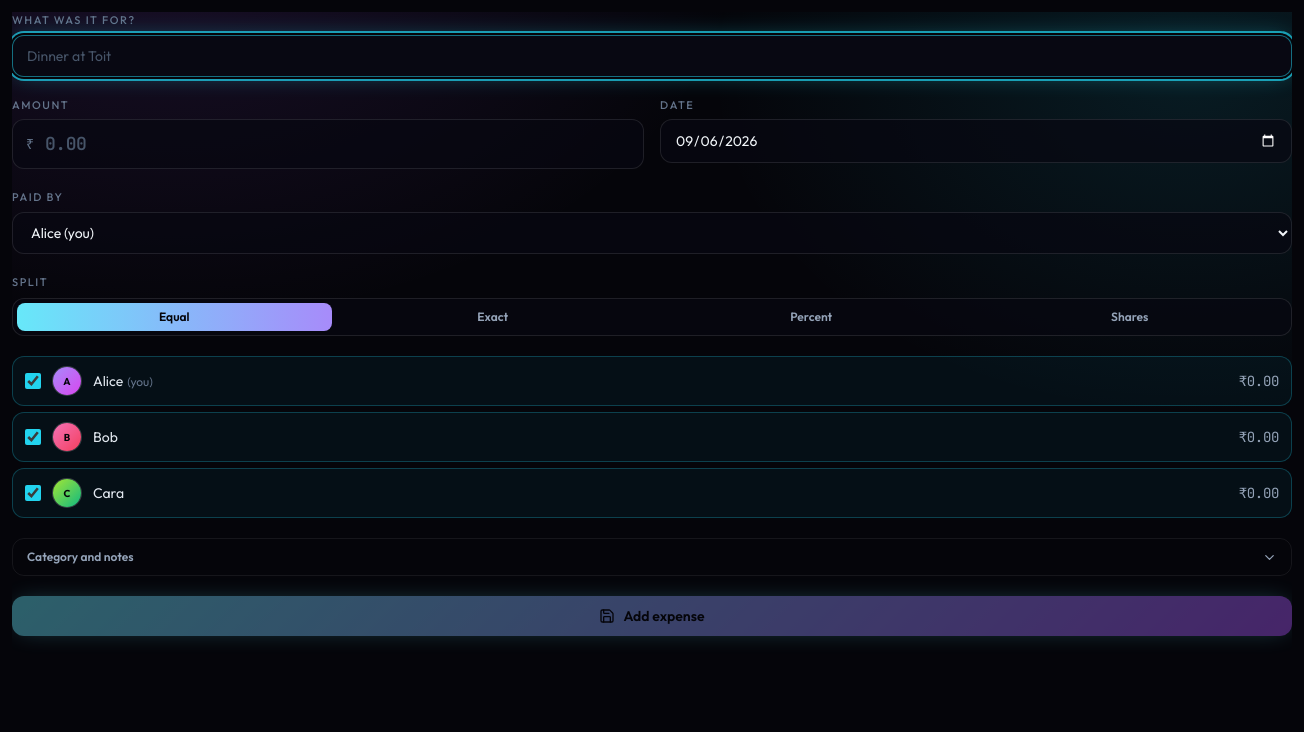
ExpenseForm › blocks submit when nobody is selected
Type "Solo" into the field labelled "What was it for?" at (652, 56), box [12,34,1292,76]
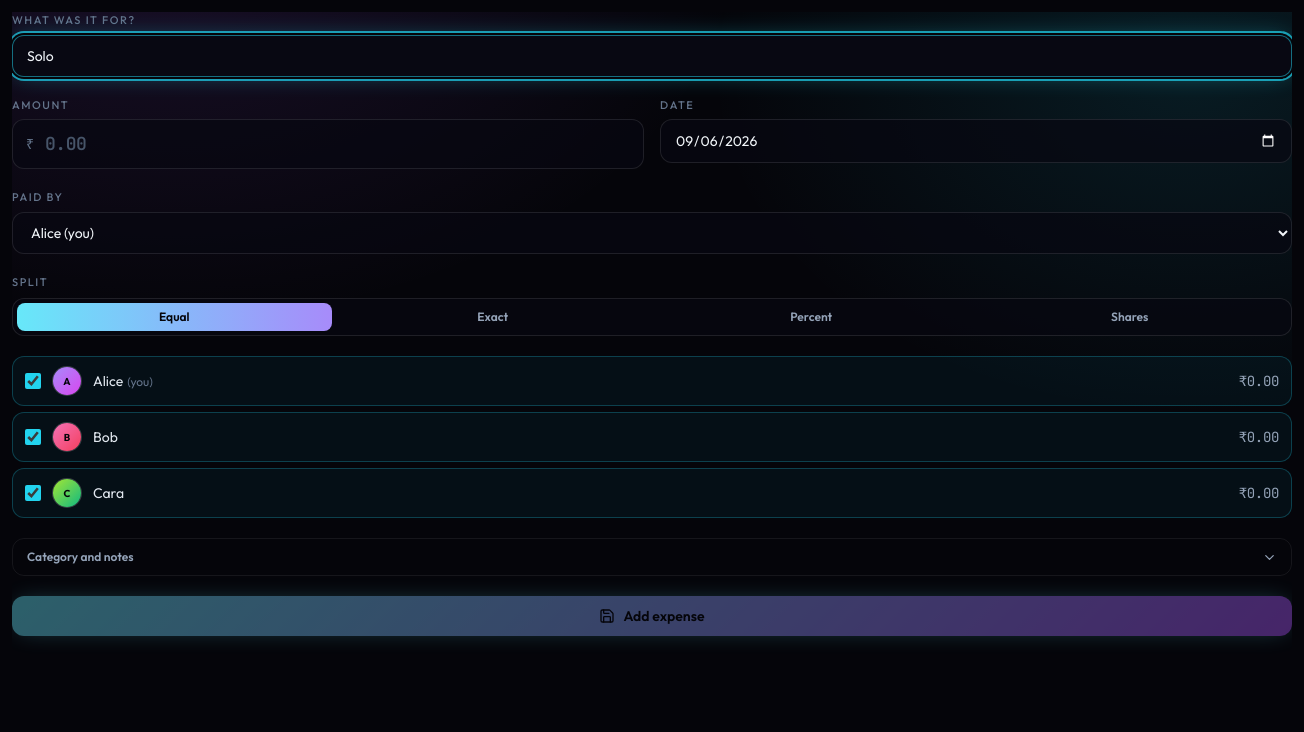
Type "10" into the field labelled "Amount" at (328, 144), box [12,119,644,169]
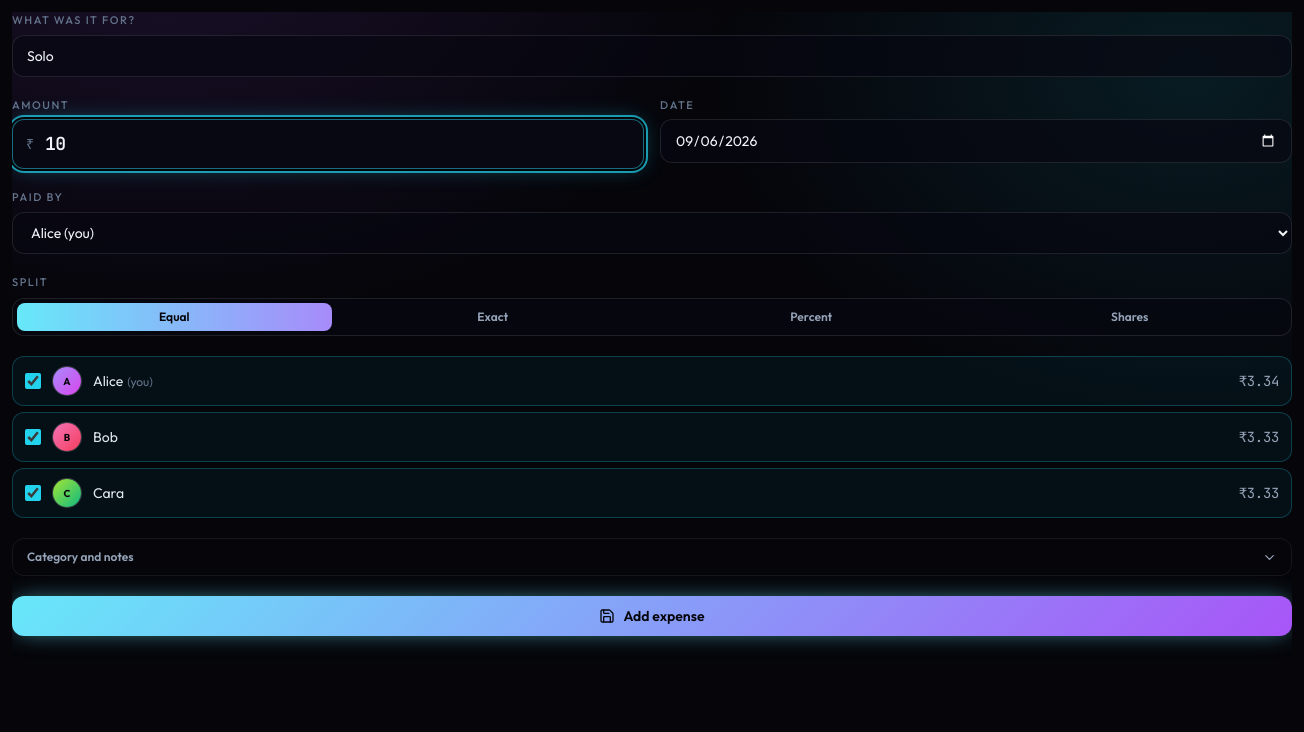
Click the checkbox named "Include Alice" at (33, 381), box [25,373,41,389]
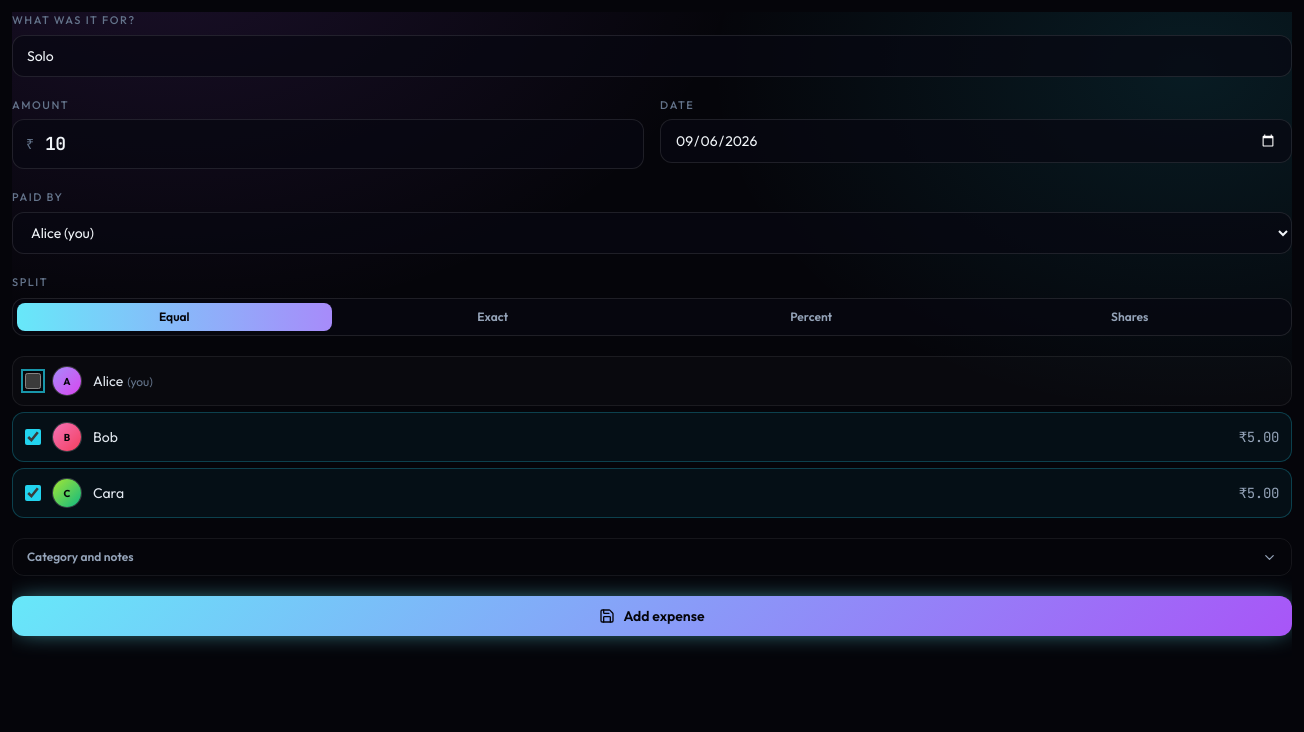
Click the checkbox named "Include Bob" at (33, 437), box [25,429,41,445]
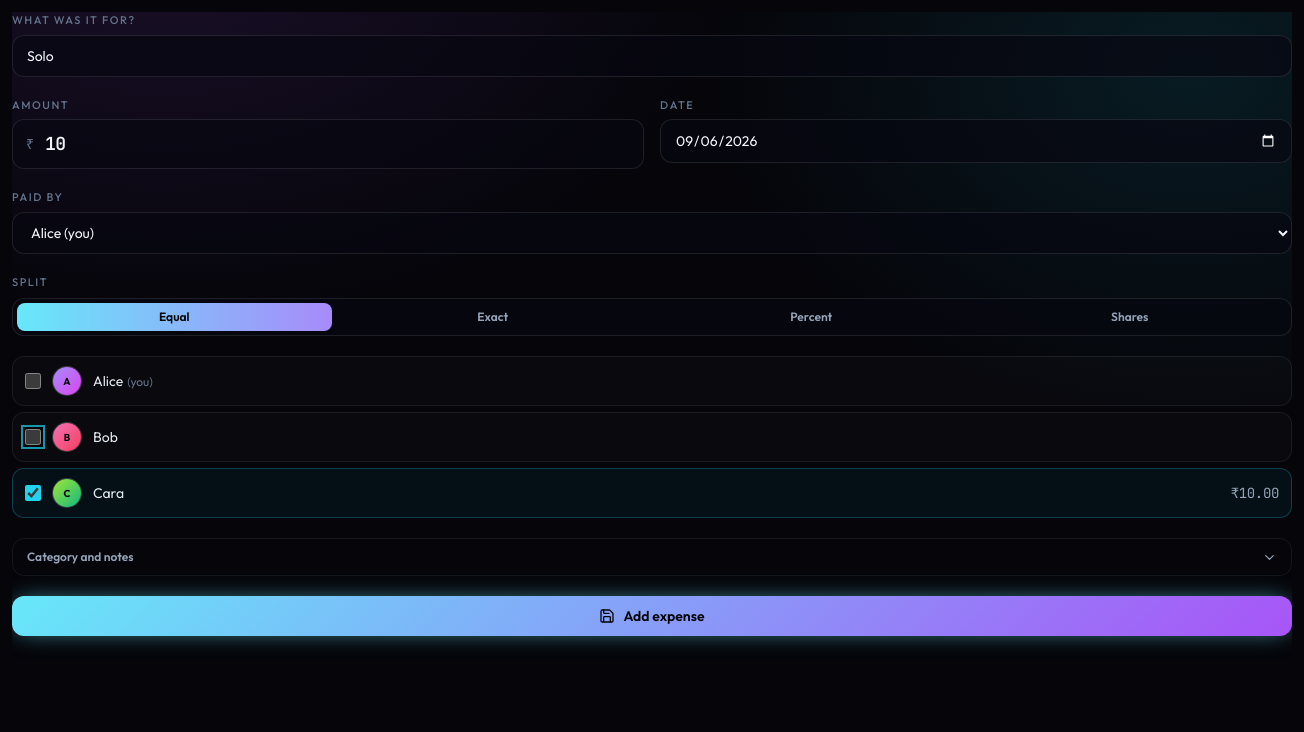
Click the checkbox named "Include Cara" at (33, 493), box [25,485,41,501]
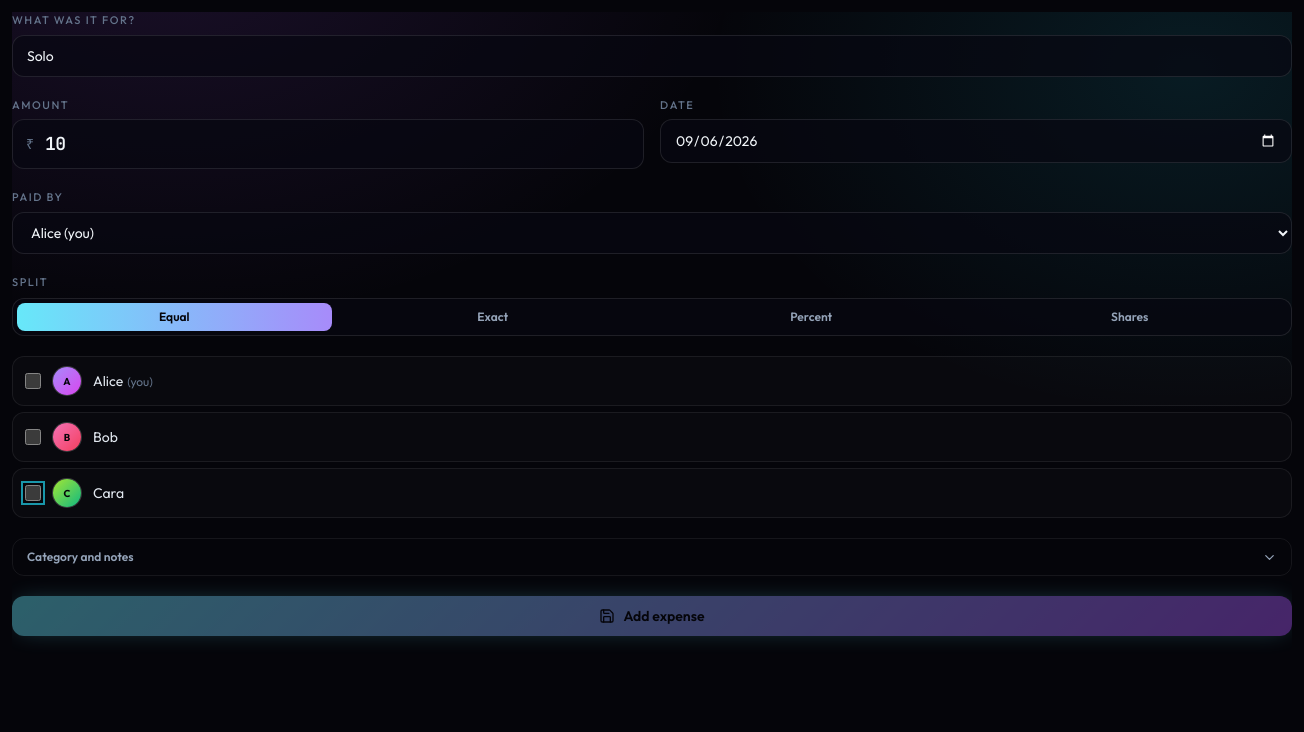
Expected: the button "Add expense" is disabled, [12,596,1292,636]
